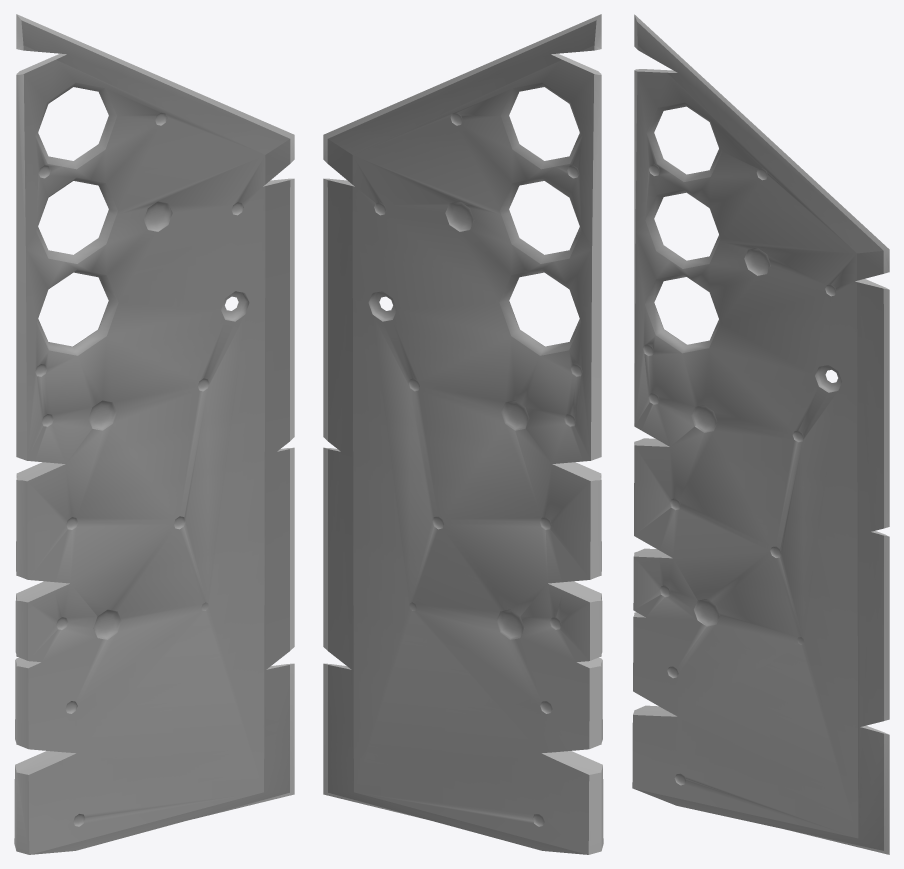
The model's file is stone_blade_bubbles_060.glb.
3 renders of one model, left to right at view 1: azimuth 30°, elevation 25°; view 2: azimuth 150°, elevation 25°; view 3: azimuth 330°, elevation 25°, orthographic. The views are drawn at different scales.
Visible parts, largest first — view 1: stone_blade_bubbles.060; view 2: stone_blade_bubbles.060; view 3: stone_blade_bubbles.060.
Boxes of the visible parts, x1,y1,x2,y2 form: stone_blade_bubbles.060: (14,14,294,854); stone_blade_bubbles.060: (323,14,603,854); stone_blade_bubbles.060: (632,14,889,854).
Size of the model in its own units: 4.06 by 11.85 by 0.374.
1 material, 1 textured.
